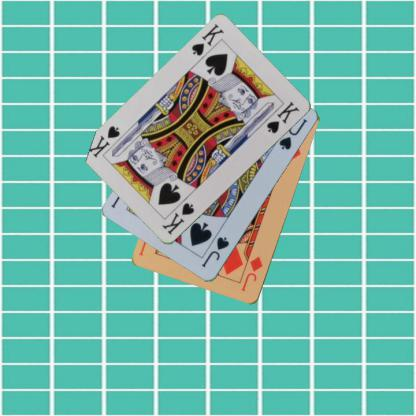Jd: (239, 254, 264, 293)
Js: (198, 234, 230, 269)
Ks: (159, 200, 196, 236), (189, 21, 225, 58)
